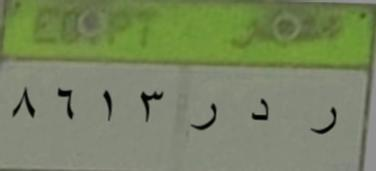1: (92, 84, 125, 131)
3: (132, 84, 171, 130)
6: (50, 75, 84, 127)
8: (7, 83, 42, 129)
daal: (239, 92, 277, 132)
raa: (302, 102, 344, 144), (183, 102, 225, 144)
